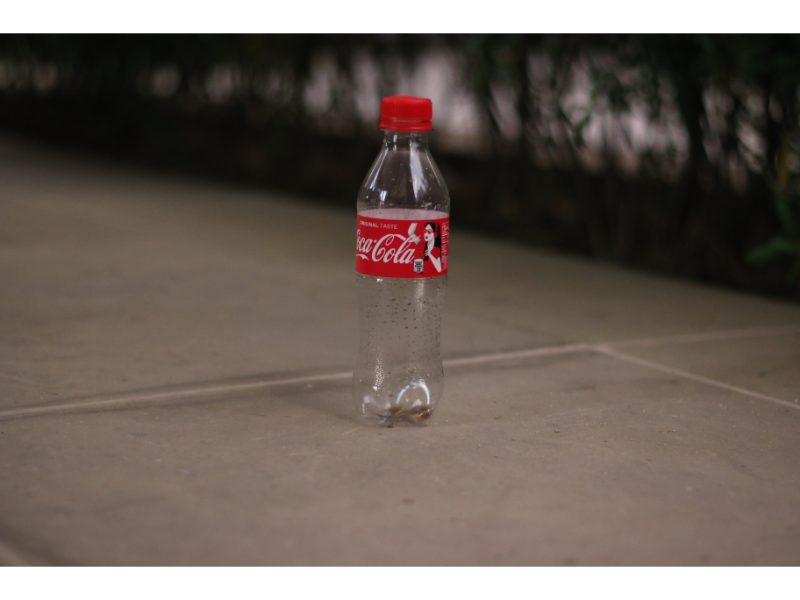PET #1: (355, 94, 448, 433)
